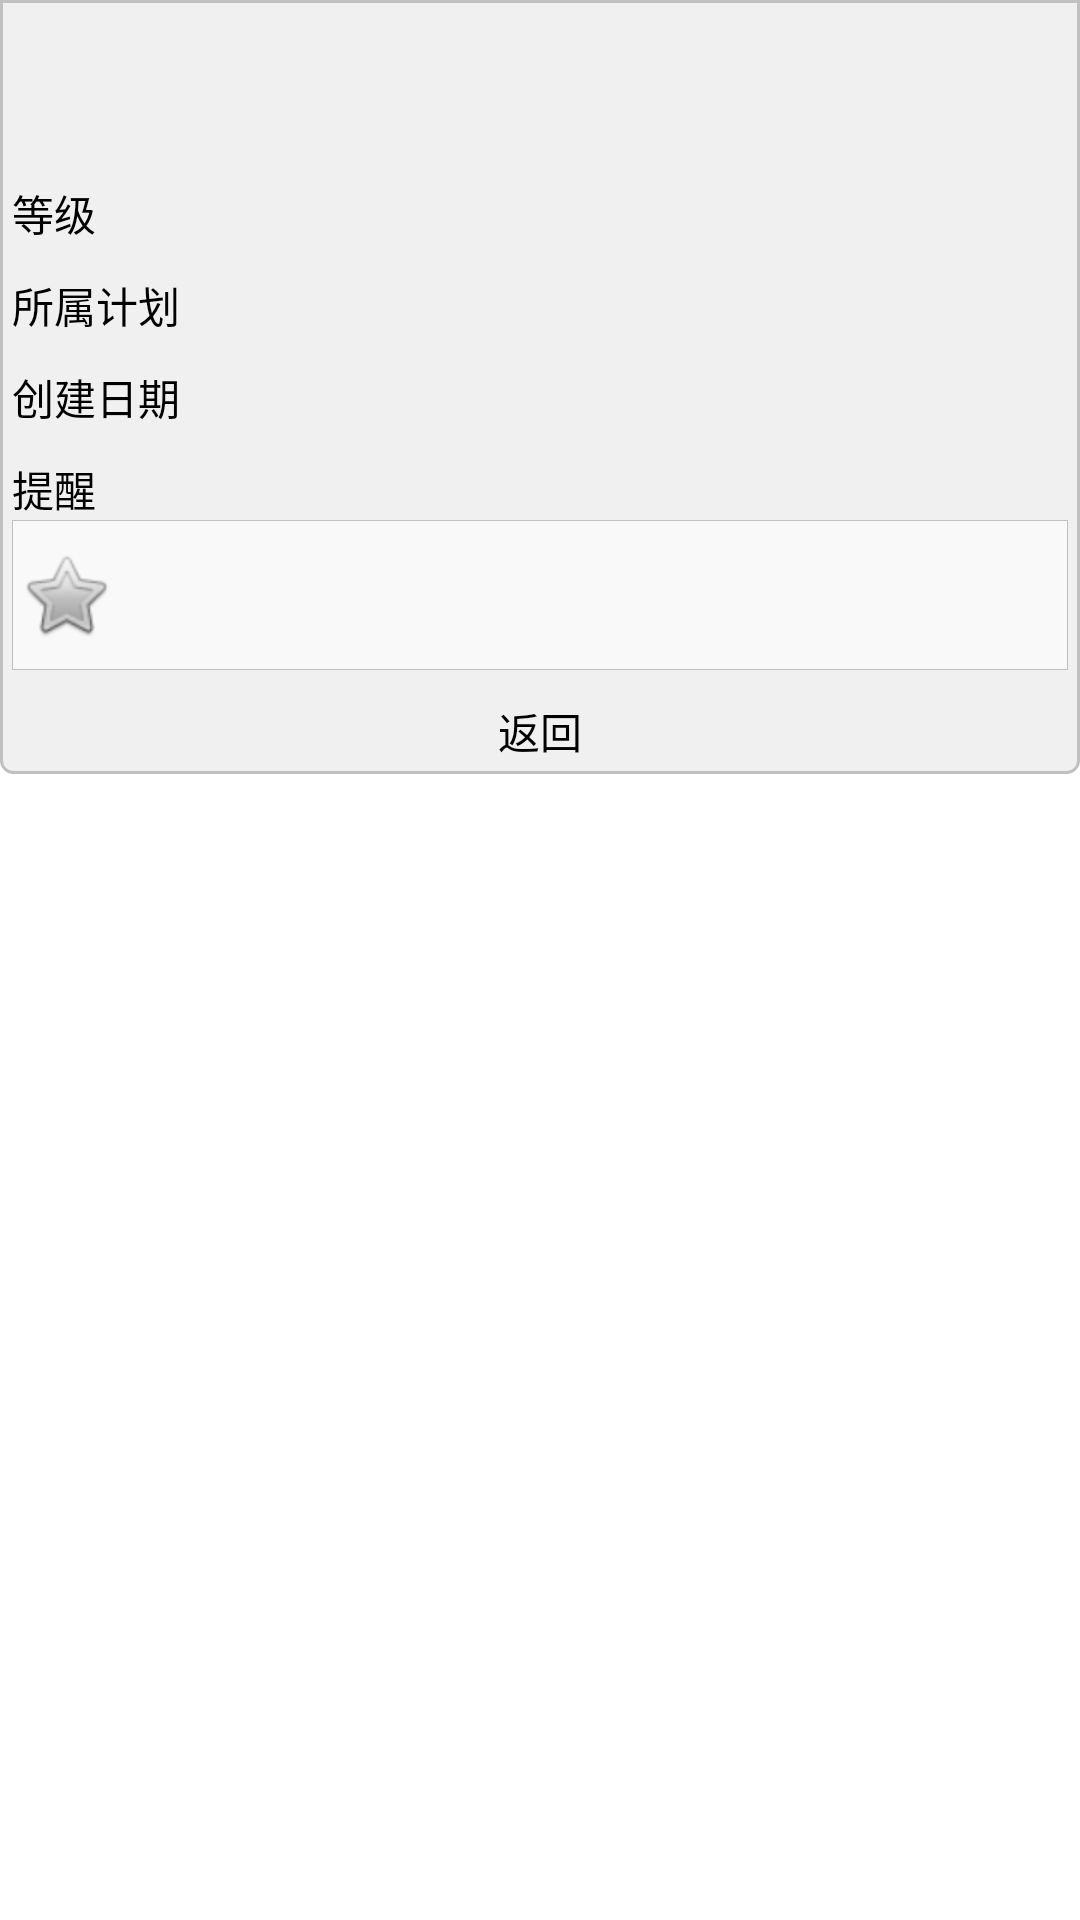

Icon bounding boxes for this 1080px×1920px phone screenshot, format bbox(x1, y1, x2, y2):
star: bbox(27, 557, 107, 635)
